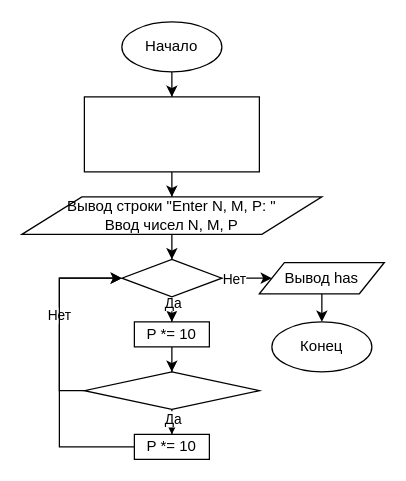
The diagram is 406 pixels wide and 481 high, and some of its shapes have lost their labels. Here are the shapes that lost their labels. From the top down, the centre of each, then its label:
At (171,134): "Натуральное число N Целое число M Вещественное число P Булево has = false".
At (171,277): "N-- != 0".
At (171,390): "(int)P % 10 == M".
